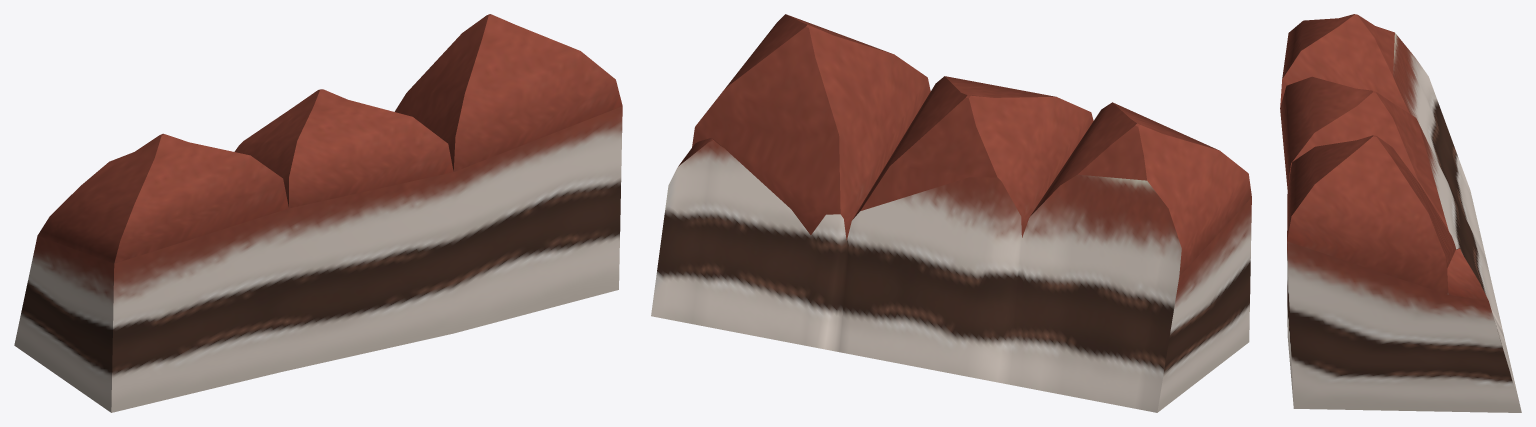
Rendered from Tiramisu Stage 3.fbx.
3 views of the same model, side by side, from view 1: azimuth 30°, elevation 25°; view 2: azimuth 150°, elevation 25°; view 3: azimuth 270°, elevation 25° (orthographic). The views are drawn at different scales.
Parts seen in each view (by area): view 1: pCube23; view 2: pCube23; view 3: pCube23.
Part boxes in pixels (x1=…): pCube23: x1=14, y1=14, x2=622, y2=412; pCube23: x1=651, y1=14, x2=1251, y2=412; pCube23: x1=1280, y1=14, x2=1521, y2=412.
Bounding box in the file's own units: 234 × 118 × 108.
Materials: 1 (1 with a texture image).
